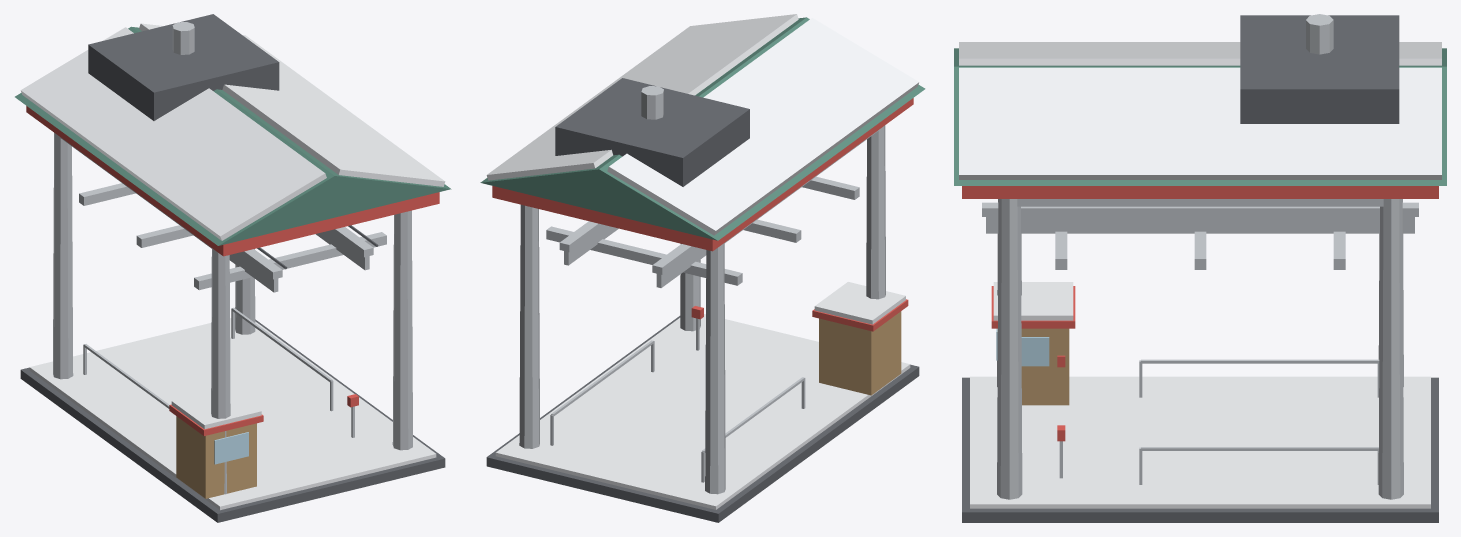
Rendered from liftbottom.glb.
3 views of the same model, side by side, from view 1: azimuth 30°, elevation 25°; view 2: azimuth 150°, elevation 25°; view 3: azimuth 270°, elevation 25° (orthographic). The views are drawn at different scales.
Parts seen in each view (by area): view 1: lift-bottom-station; view 2: lift-bottom-station; view 3: lift-bottom-station.
Part boxes in pixels (x1=…): lift-bottom-station: x1=15, y1=14, x2=451, y2=522; lift-bottom-station: x1=480, y1=14, x2=925, y2=522; lift-bottom-station: x1=954, y1=14, x2=1446, y2=522.
Bounding box in the file's own units: 8.2 × 12.1 × 12.4.
